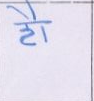ai_matra: (7, 1, 44, 20)
